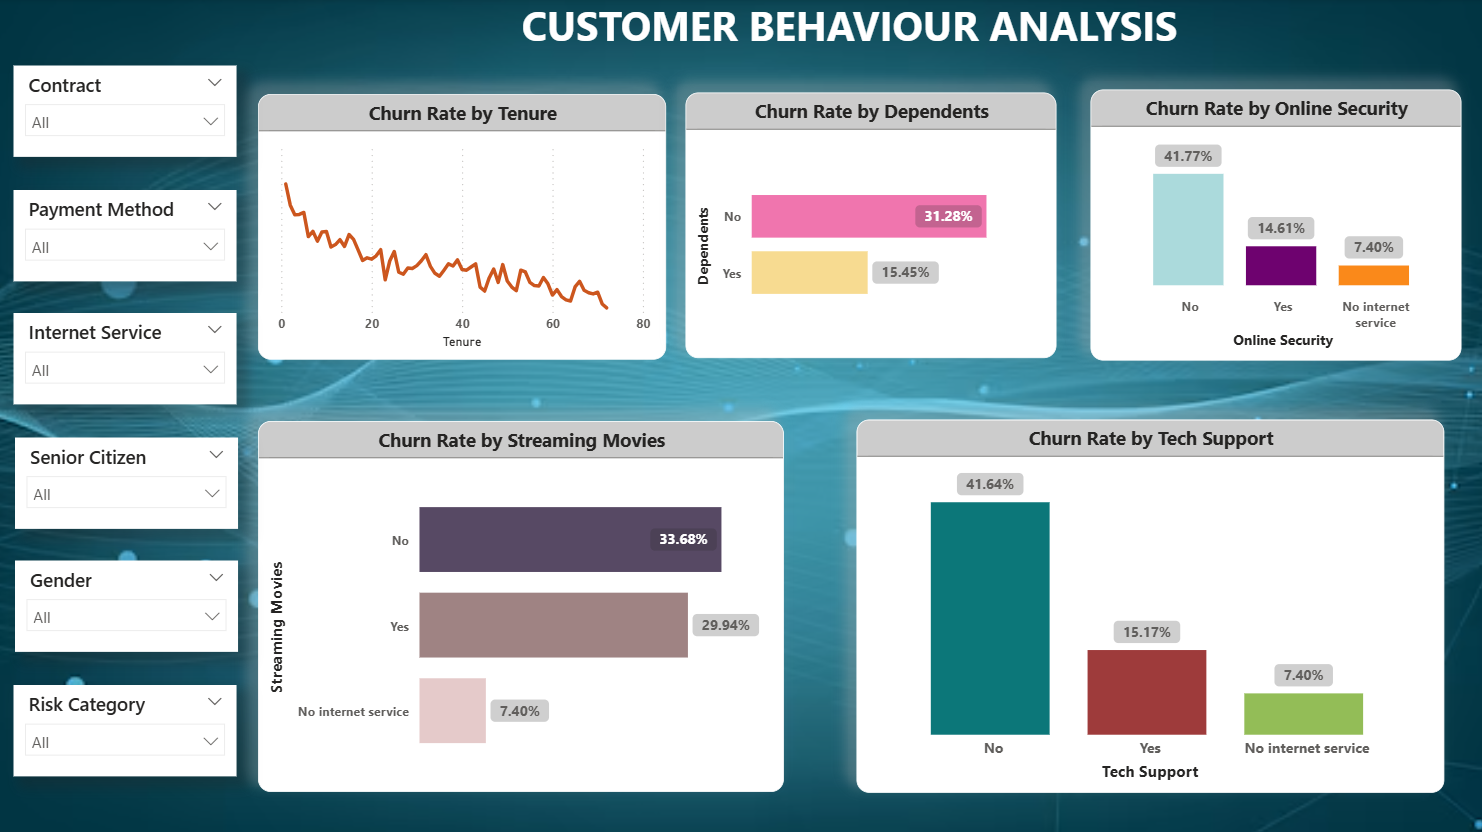

What the dashboard file says about the page in this screenshot:
{"tool":"powerbi","page":{"name":"Page 3","canvas":[1280,720],"ordinal":2},"visuals":[{"type":"textbox","title":"CUSTOMER BEHAVIOUR ANALYSIS","box":[446.7,0,611.7,78.7],"z":0},{"type":"lineChart","title":"Churn Rate by Tenure","fields":{"Category":["Fact ChurnData.tenure"],"Y":["Metrics.Churn Rate %"]},"box":[224.1,83.3,351.3,228.6],"z":1000},{"type":"clusteredBarChart","fields":{"Y":["Metrics.Churn Rate %"],"Category":["Dim_Service.StreamingMovies"]},"box":[224.1,363.9,452.7,319.5],"z":2000},{"type":"clusteredColumnChart","fields":{"Y":["Metrics.Churn Rate %"],"Category":["Dim_Service.TechSupport"]},"box":[740.4,362.4,505.7,321],"z":3000},{"type":"clusteredColumnChart","fields":{"Y":["Metrics.Churn Rate %"],"Category":["Dim_Service.OnlineSecurity"]},"box":[941.8,78.7,319.5,233.2],"z":4000},{"type":"slicer","fields":{"Values":["Dim_Contract.Contract"]},"box":[13.6,58.1,192.3,78.7],"z":5000},{"type":"slicer","fields":{"Values":["Dim_Risk.Risk_Category"]},"box":[13.6,591.1,192.3,78.7],"z":6000},{"type":"slicer","fields":{"Values":["Dim_Service.InternetService"]},"box":[13.6,271.3,192.3,78.7],"z":7000},{"type":"slicer","fields":{"Values":["Dim_Contract.PaymentMethod"]},"box":[13.6,164.7,192.3,78.7],"z":8000},{"type":"slicer","fields":{"Values":["Dim_Customer.gender"]},"box":[15.1,484.5,192.3,78.7],"z":9000},{"type":"slicer","fields":{"Values":["Dim_Customer.SeniorCitizen"]},"box":[15.1,377.9,192.3,78.7],"z":10000},{"type":"clusteredBarChart","fields":{"Y":["Metrics.Churn Rate %"],"Category":["Dim_Customer.Dependents"]},"box":[592.1,81.8,319.5,228.6],"z":11000}]}

Visuals, with their boxes in screenshot pixels (x1, y1, x2, y2), scaled from the page's 1280x720 canvas onto the 1482x832 screenshot:
"CUSTOMER BEHAVIOUR ANALYSIS" textbox: rect(517, 0, 1225, 91)
"Churn Rate by Tenure" lineChart: rect(259, 96, 666, 360)
clusteredBarChart - Metrics.Churn Rate % x Dim_Service.StreamingMovies: rect(259, 421, 784, 790)
clusteredColumnChart - Metrics.Churn Rate % x Dim_Service.TechSupport: rect(857, 419, 1443, 790)
clusteredColumnChart - Metrics.Churn Rate % x Dim_Service.OnlineSecurity: rect(1090, 91, 1460, 360)
slicer - Dim_Contract.Contract: rect(16, 67, 238, 158)
slicer - Dim_Risk.Risk_Category: rect(16, 683, 238, 774)
slicer - Dim_Service.InternetService: rect(16, 314, 238, 404)
slicer - Dim_Contract.PaymentMethod: rect(16, 190, 238, 281)
slicer - Dim_Customer.gender: rect(17, 560, 240, 651)
slicer - Dim_Customer.SeniorCitizen: rect(17, 437, 240, 528)
clusteredBarChart - Metrics.Churn Rate % x Dim_Customer.Dependents: rect(686, 95, 1055, 359)
